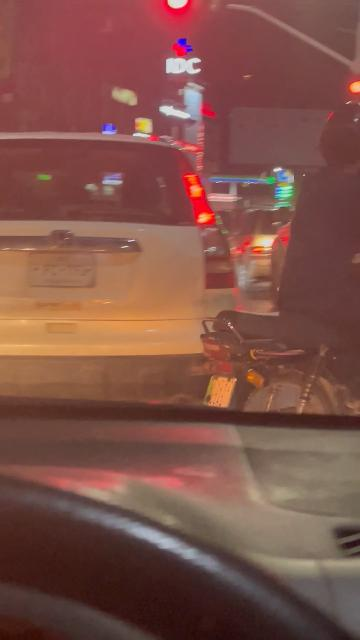plate: (28, 247, 98, 287)
